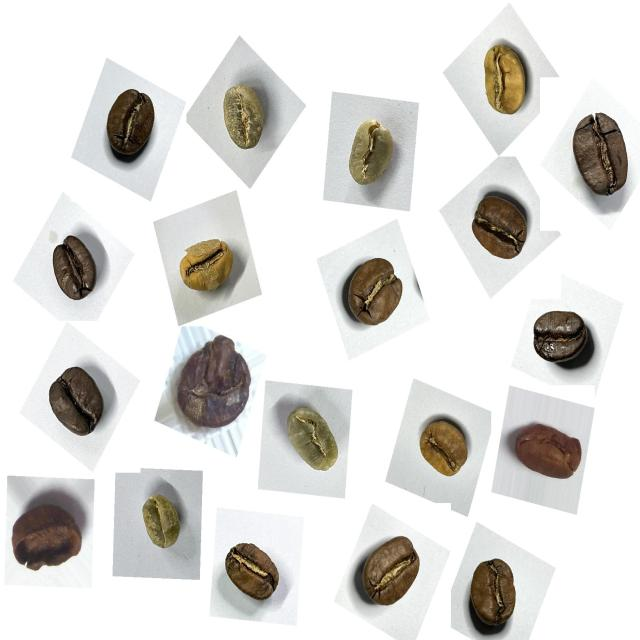bad: (169, 324, 262, 439), (6, 477, 95, 583), (510, 409, 590, 492)
dark: (39, 355, 114, 449), (526, 301, 601, 380), (42, 226, 108, 314)
green: (274, 396, 350, 489), (334, 107, 404, 201), (208, 73, 278, 164), (130, 485, 192, 563)
light: (469, 34, 537, 130), (170, 222, 243, 304), (408, 406, 477, 490)
medium: (558, 106, 640, 211), (350, 526, 431, 620), (334, 246, 414, 341), (461, 184, 537, 273), (95, 79, 167, 170), (459, 550, 531, 638), (218, 530, 290, 614)
